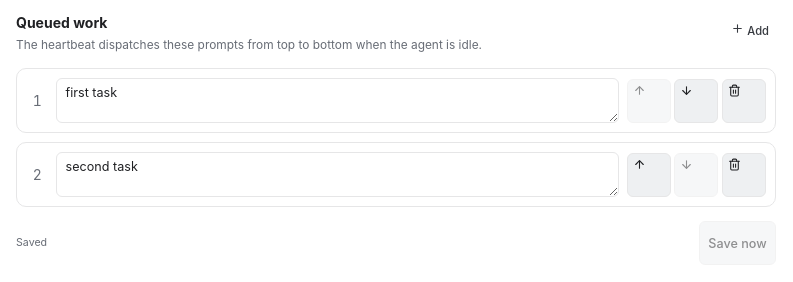
QueuePanel › reorders, edits, removes, and saves the durable queue
Expected: the text box showing "first task" is shown, [56,78,619,123]
Click the button named "move queued task 2 up".
click(649, 175)  # box [627,153,671,197]
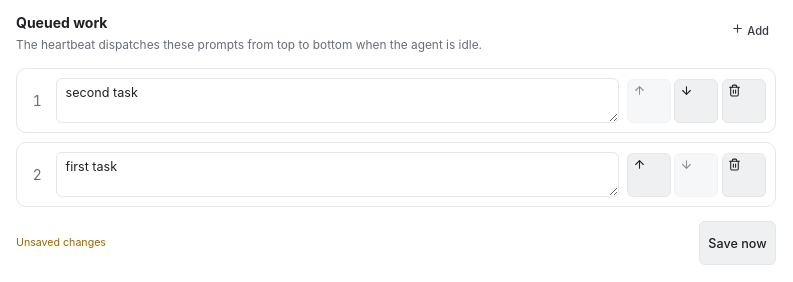
Replace the text in the text box named "queued task 1" with "second task updated" at x=338, y=101, box [56,78,619,123]
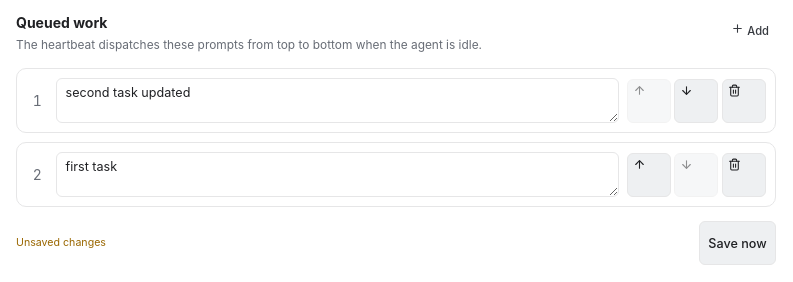
Click the button named "remove queued task 2".
click(744, 175)  # box [722,153,766,197]
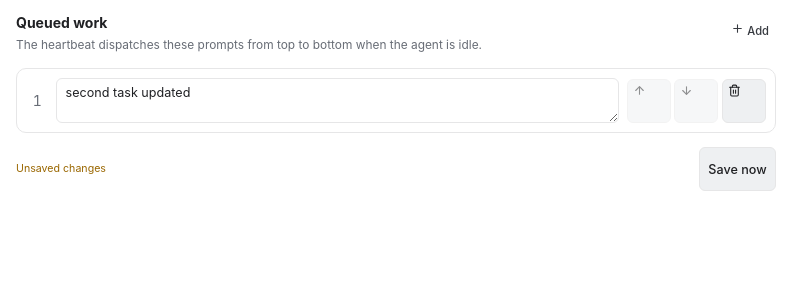
Expected: the message shows "Unsaved", [16,162,106,175]
Click the button "Save now".
click(738, 169)  # box [699,147,776,191]
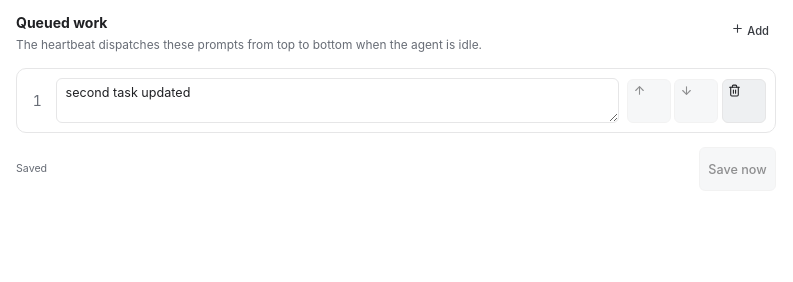
Expected: the message reads "Saved", [16,162,47,175]
